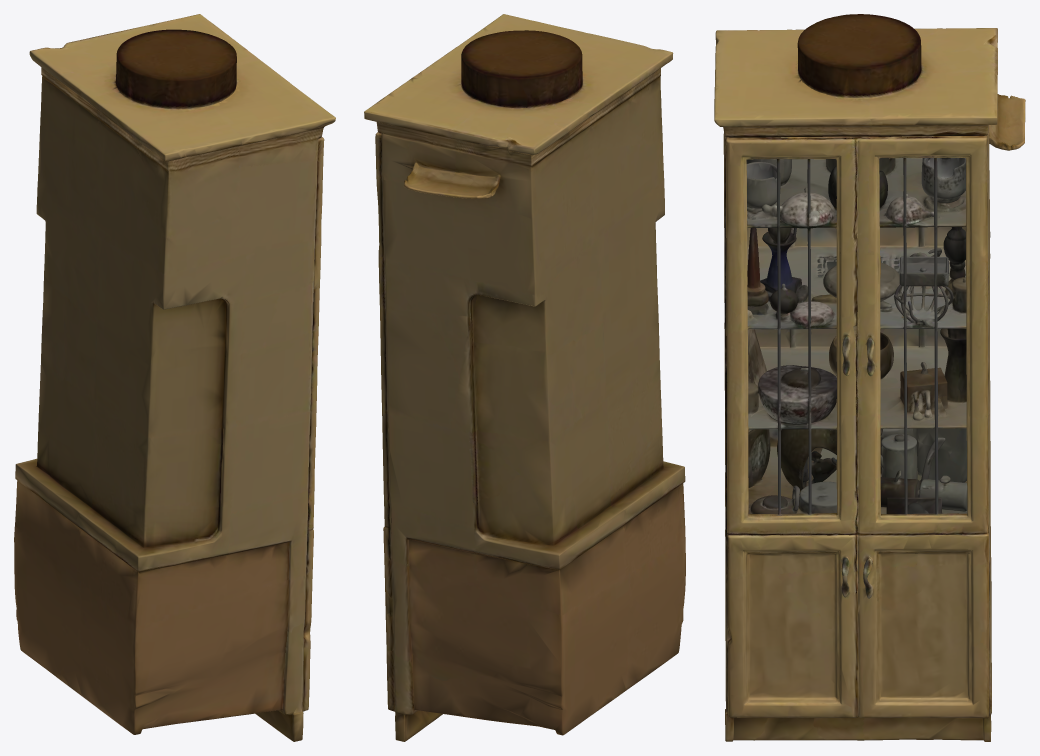
File: cabinet.glb
3 renders of one model, left to right at view 1: azimuth 30°, elevation 25°; view 2: azimuth 150°, elevation 25°; view 3: azimuth 270°, elevation 25°, orthographic. The views are drawn at different scales.
Visible parts, largest first — view 1: tripo_node_63c6c684-e34b-4298-b2a6-d99e5a3d745d; view 2: tripo_node_63c6c684-e34b-4298-b2a6-d99e5a3d745d; view 3: tripo_node_63c6c684-e34b-4298-b2a6-d99e5a3d745d.
Part boxes in pixels (bbox=[...]): tripo_node_63c6c684-e34b-4298-b2a6-d99e5a3d745d: bbox=[14, 14, 335, 741]; tripo_node_63c6c684-e34b-4298-b2a6-d99e5a3d745d: bbox=[364, 14, 685, 741]; tripo_node_63c6c684-e34b-4298-b2a6-d99e5a3d745d: bbox=[714, 14, 1025, 741].
Size of the model in its own units: 0.3085 by 0.9963 by 0.4182.
Materials: 1 (1 with a texture image).
